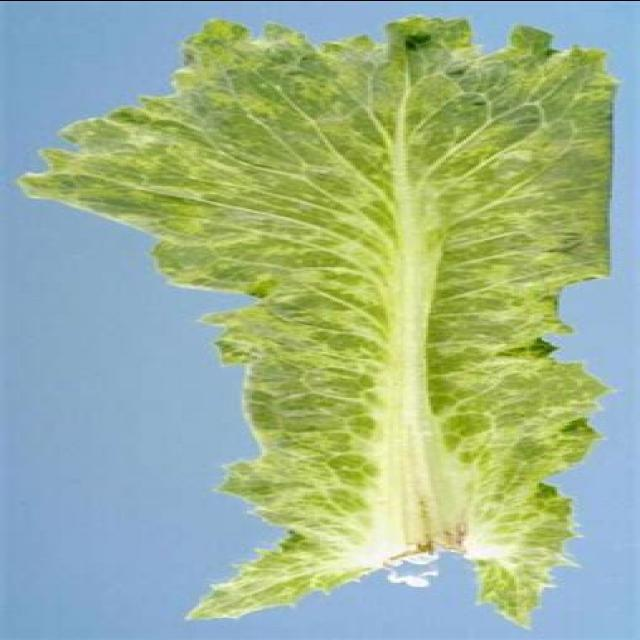Lettuce: (21, 15, 620, 626)
